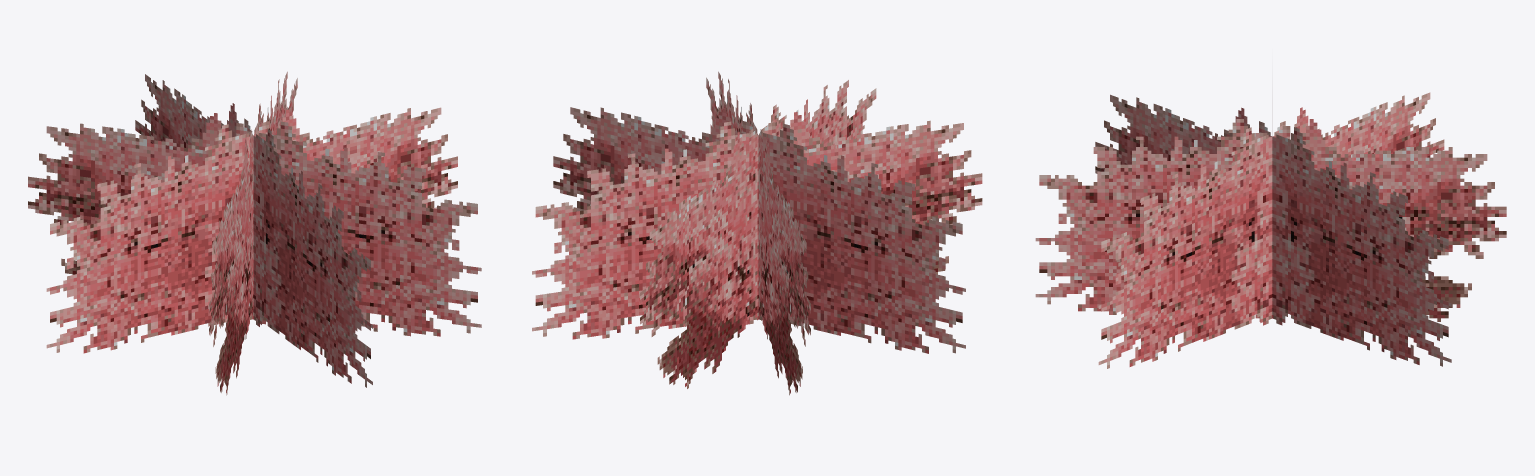
The model's file is Sakura Bush.glb.
3 views of the same model, side by side, from view 1: azimuth 30°, elevation 25°; view 2: azimuth 150°, elevation 25°; view 3: azimuth 270°, elevation 25° (orthographic).
Parts seen in each view (by area): view 1: Bush 2; view 2: Bush 2; view 3: Bush 2.
Part boxes in pixels (x1,y1,x2,y2): Bush 2: (28, 71, 481, 395); Bush 2: (532, 71, 982, 395); Bush 2: (1035, 92, 1506, 368).
Size of the model in its own units: 9.23 by 4.88 by 9.23.
1 material, 1 textured.
